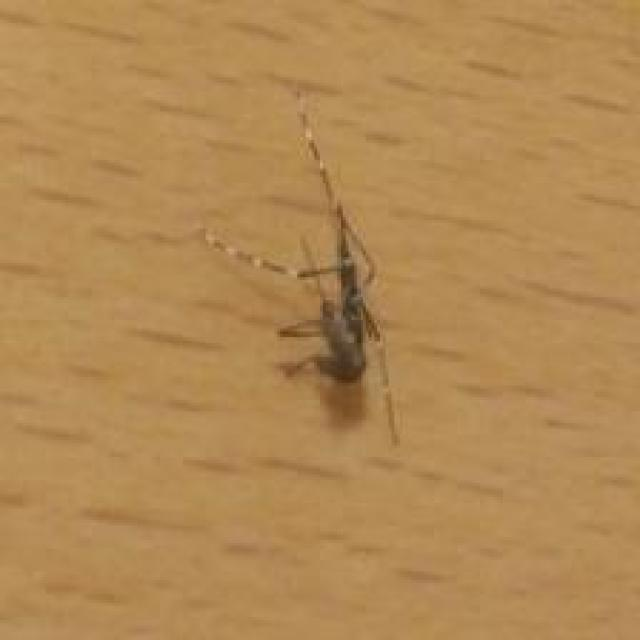Aedes albopictus: (202, 86, 402, 446)
